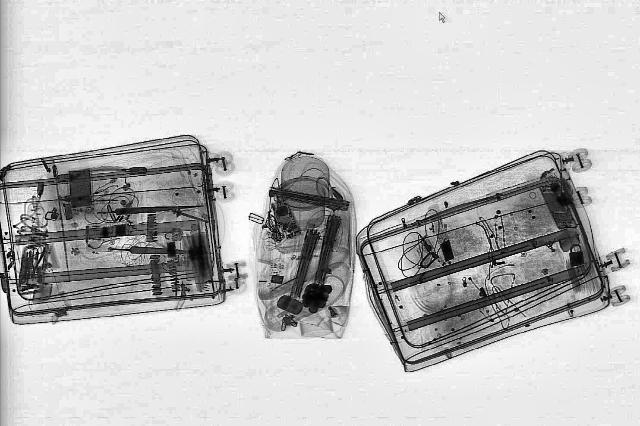Pliers: (22, 244, 48, 277)
